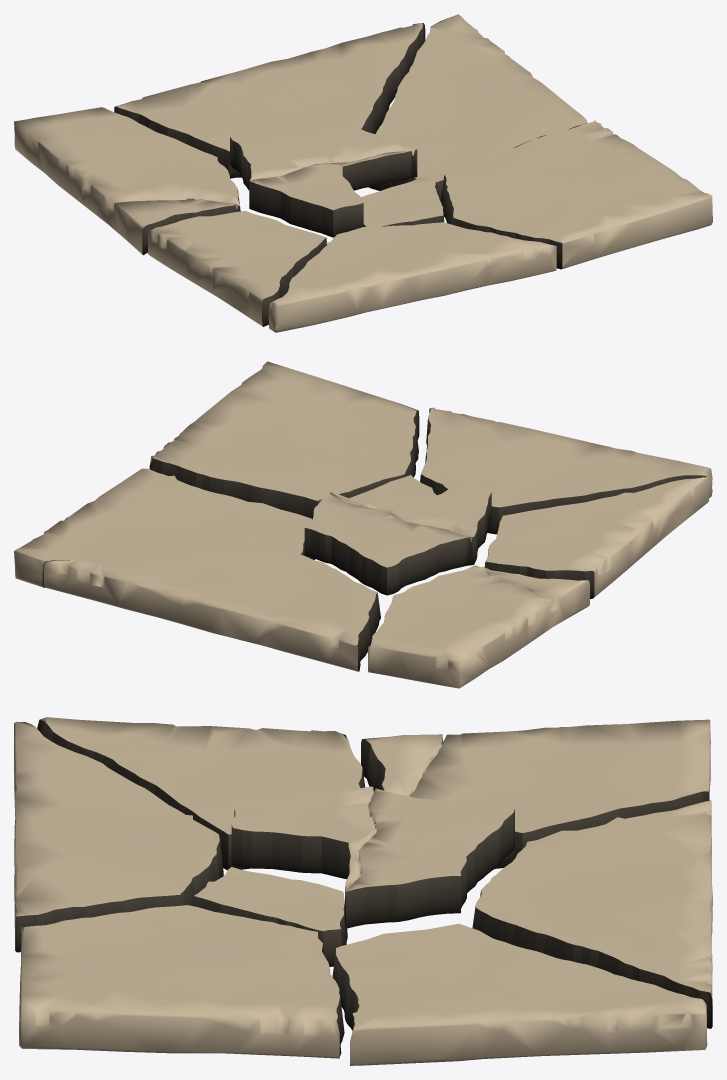
File: slab2-2.glb
3 views of the same model, one above another, from view 1: azimuth 30°, elevation 25°; view 2: azimuth 150°, elevation 25°; view 3: azimuth 270°, elevation 25° (orthographic). The views are drawn at different scales.
Visible parts, largest first — view 1: damage2-2, chip0; view 2: damage2-2, chip0; view 3: damage2-2, chip0.
Part boxes in pixels (x1,y1,x2,y2): damage2-2: (14, 14, 712, 332); chip0: (230, 124, 417, 237); damage2-2: (14, 361, 712, 688); chip0: (304, 483, 491, 595); damage2-2: (14, 717, 712, 1065); chip0: (231, 786, 514, 928).
Size of the model in its own units: 1.02 by 0.1343 by 1.02.
